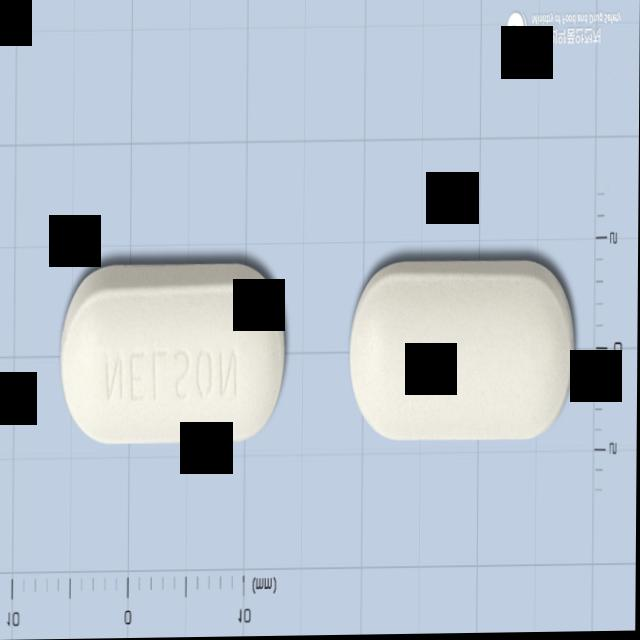Ciproctan: (59, 254, 294, 455), (345, 252, 580, 449)
